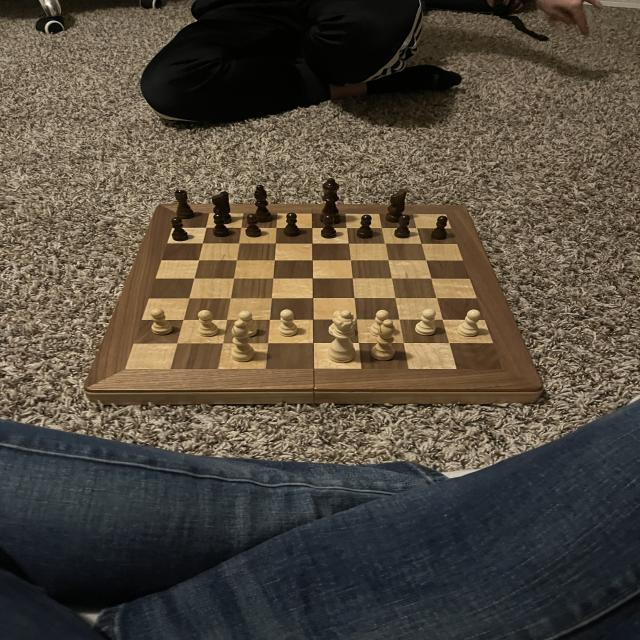bishop: (250, 182, 276, 225)
black-bishop: (317, 175, 345, 225)
black-king: (209, 188, 238, 225), (384, 188, 411, 224)
black-knight: (428, 214, 452, 242), (317, 212, 340, 241), (168, 215, 191, 242), (242, 214, 265, 240), (392, 213, 413, 240), (210, 213, 232, 238), (282, 212, 302, 239), (356, 214, 377, 239)
black-queen: (171, 187, 196, 217)
black-rook: (227, 318, 259, 366), (369, 319, 401, 362)
white-knight: (194, 308, 222, 340), (274, 308, 302, 339), (413, 308, 440, 337), (147, 308, 176, 335), (456, 309, 482, 338), (368, 308, 392, 337), (236, 310, 259, 337), (327, 309, 345, 336)
white-pawn: (326, 309, 358, 366)
